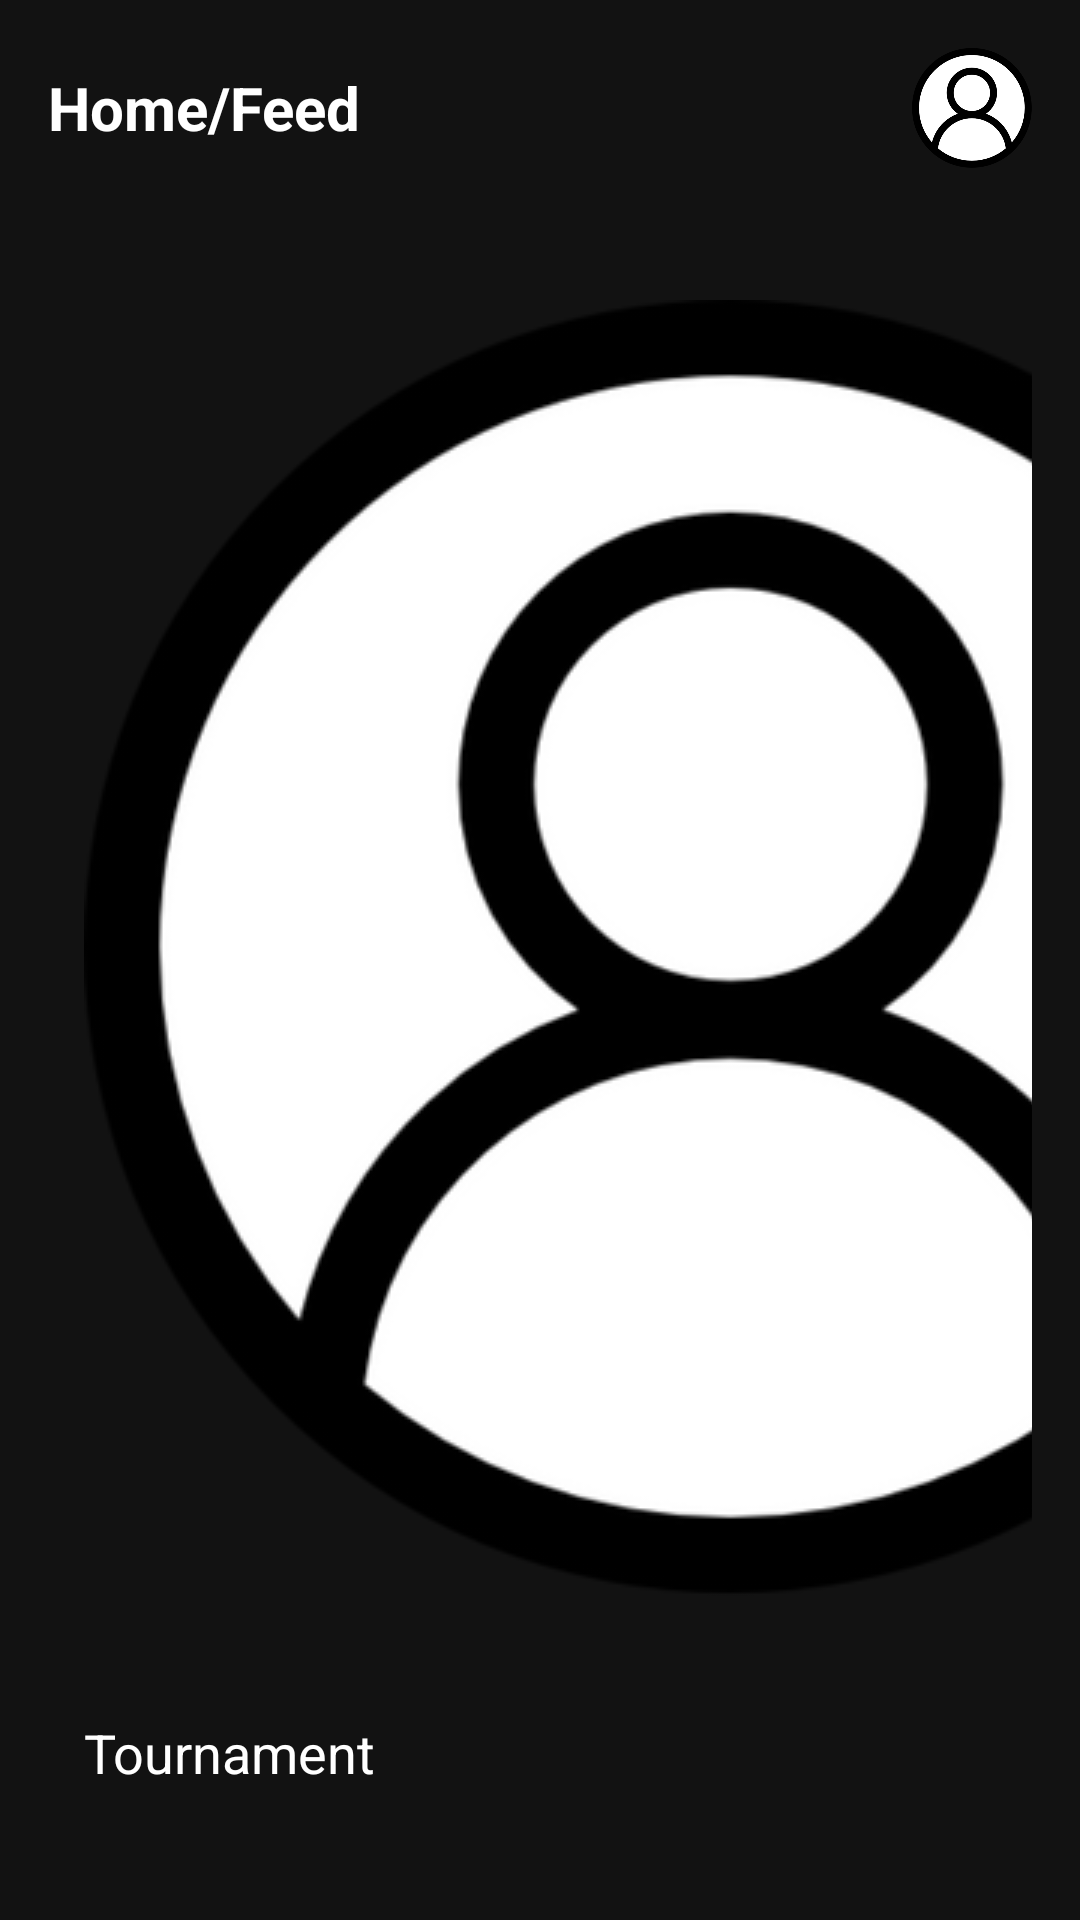

Named icons in this screenshot (1080w x 1920h) and their bounding boxes, (x1, y1, x2, y2):
Profile: (919, 55, 1025, 161)
